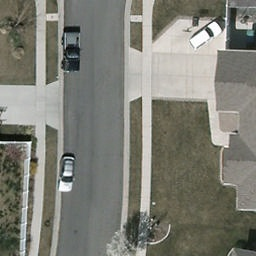car: (186, 21, 225, 53), (58, 157, 73, 193)
pickup: (63, 30, 80, 73)
